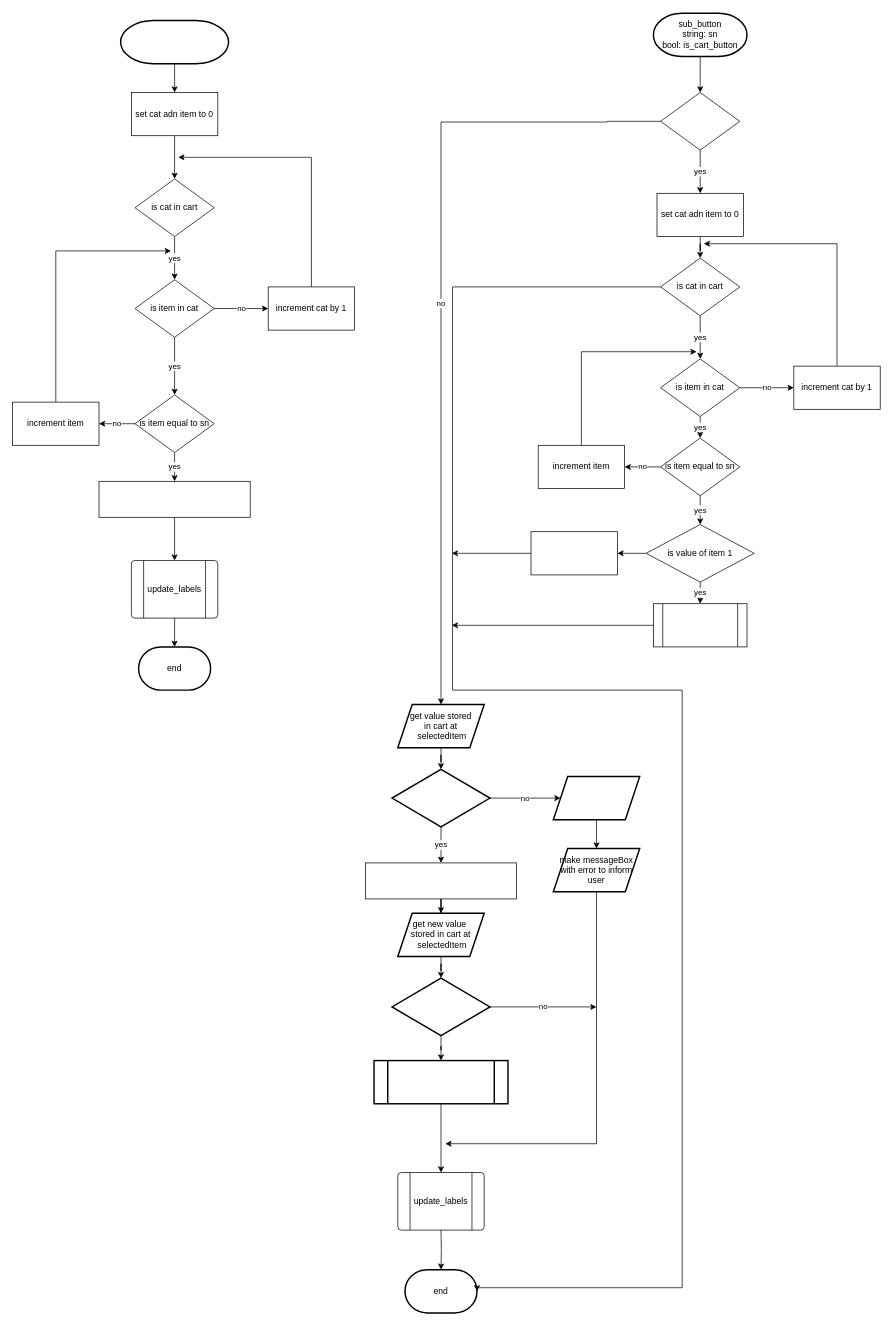
Image size: 893x1326. Some labels were removed from this diagram. The centre of each missing label's shape, as x and y in pixels:
"decrement cart[selectedCat][selectedItem] by 1" goes at [441,880].
"decrement value of selectedItem by 1" goes at [573,553].
"if value is now 0" goes at [440,1006].
"if value more than or equal to one" goes at [440,797].
"increment cart[selectedCat][selectedItem] by 1" goes at [174,499].
"is_cart_button" goes at [700,121].
"plus_button string: sn" goes at [174,41].
"remove_cart_label with sn and is_cart_button" goes at [700,625].
"run remove_cart_label with paramaters selectedItem, and is_cart_button = False" goes at [440,1081].
"tell user cannot go below 0" goes at [596,797].
